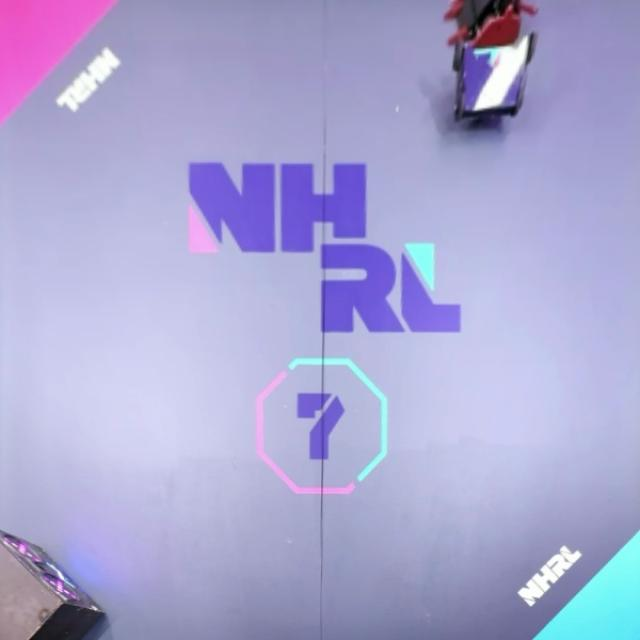housebot: (0, 529, 107, 640)
robot: (452, 31, 538, 123), (443, 0, 540, 49)
